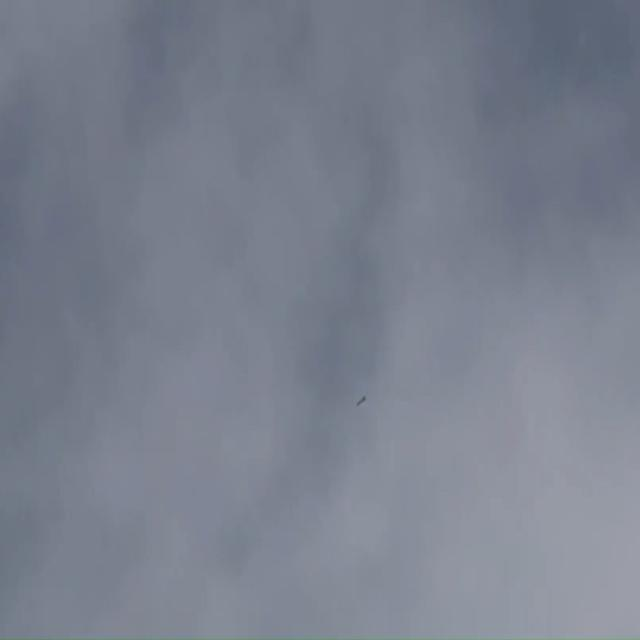Rocket: (357, 396, 366, 406)
